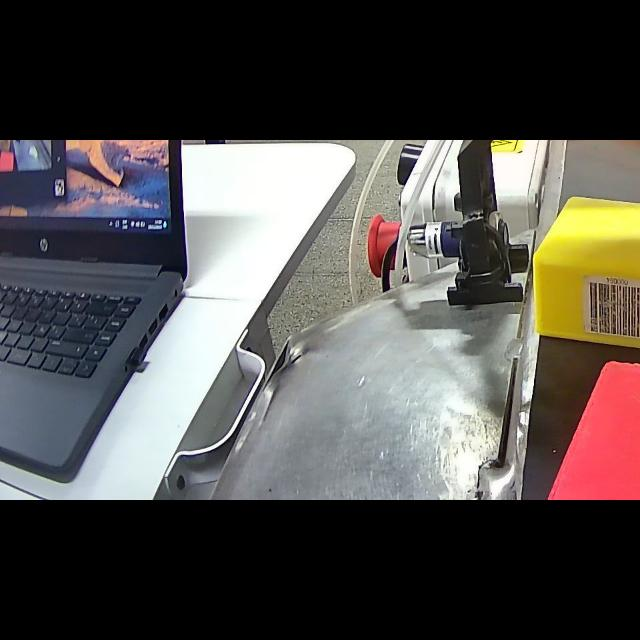redBox: (542, 351, 640, 499)
yellowBox: (528, 180, 640, 376)
